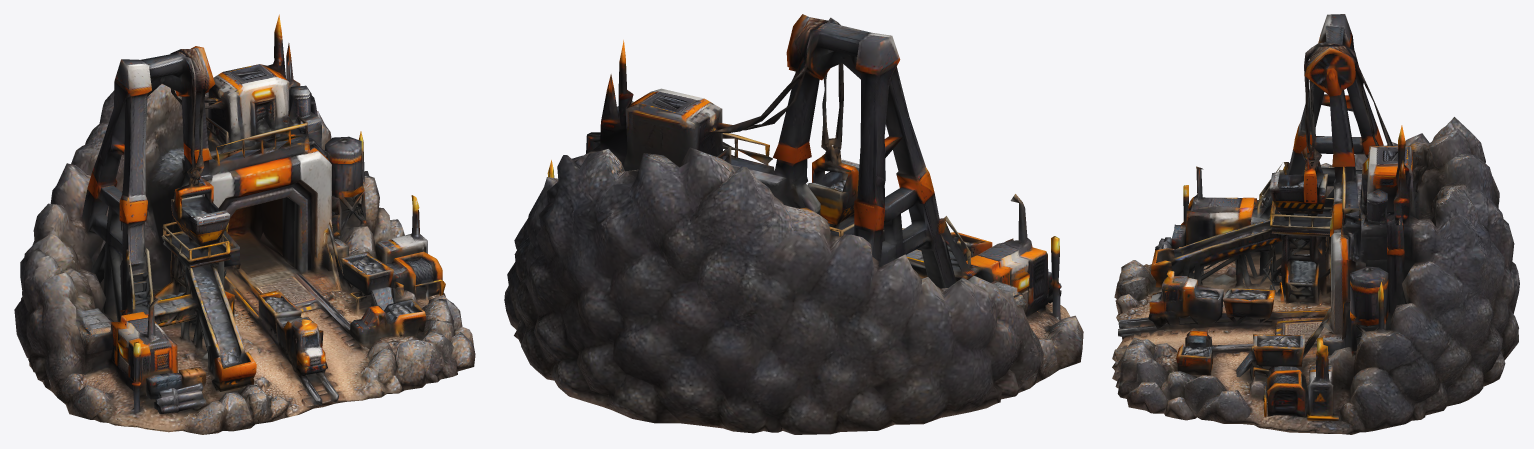
Rendered from building-simple-pit-mine-l3.glb.
3 renders of one model, left to right at view 1: azimuth 30°, elevation 25°; view 2: azimuth 150°, elevation 25°; view 3: azimuth 270°, elevation 25°, orthographic. The views are drawn at different scales.
Parts seen in each view (by area): view 1: tripo_node_6e345379-acd0-415c-b681-ee0877c073da; view 2: tripo_node_6e345379-acd0-415c-b681-ee0877c073da; view 3: tripo_node_6e345379-acd0-415c-b681-ee0877c073da.
Boxes of the visible parts, x1,y1,x2,y2 form: tripo_node_6e345379-acd0-415c-b681-ee0877c073da: (14,14,475,434); tripo_node_6e345379-acd0-415c-b681-ee0877c073da: (504,14,1083,434); tripo_node_6e345379-acd0-415c-b681-ee0877c073da: (1112,14,1519,434).
Bounding box in the file's own units: 0.9807 × 0.6564 × 0.8663.
Materials: 1 (1 with a texture image).
